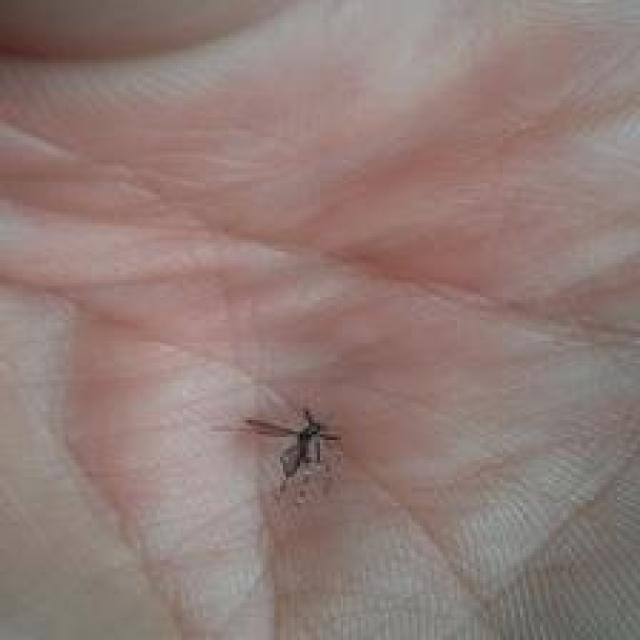Aedes albopictus: (211, 404, 343, 496)
